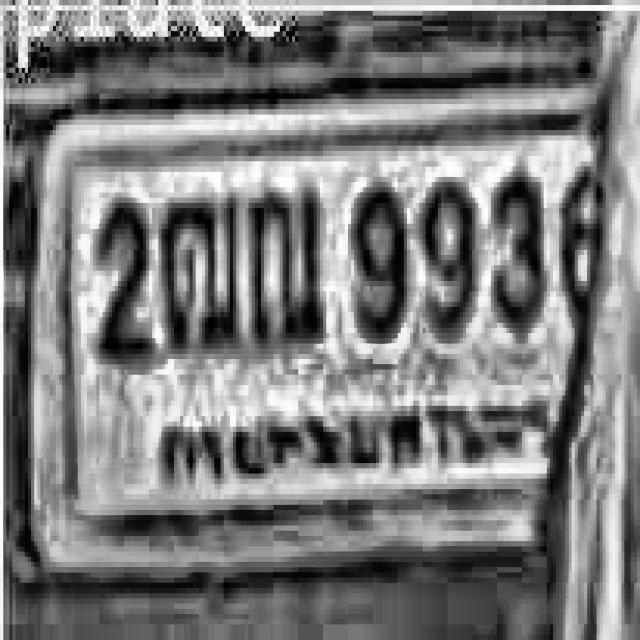license-plate: (20, 95, 640, 593)
